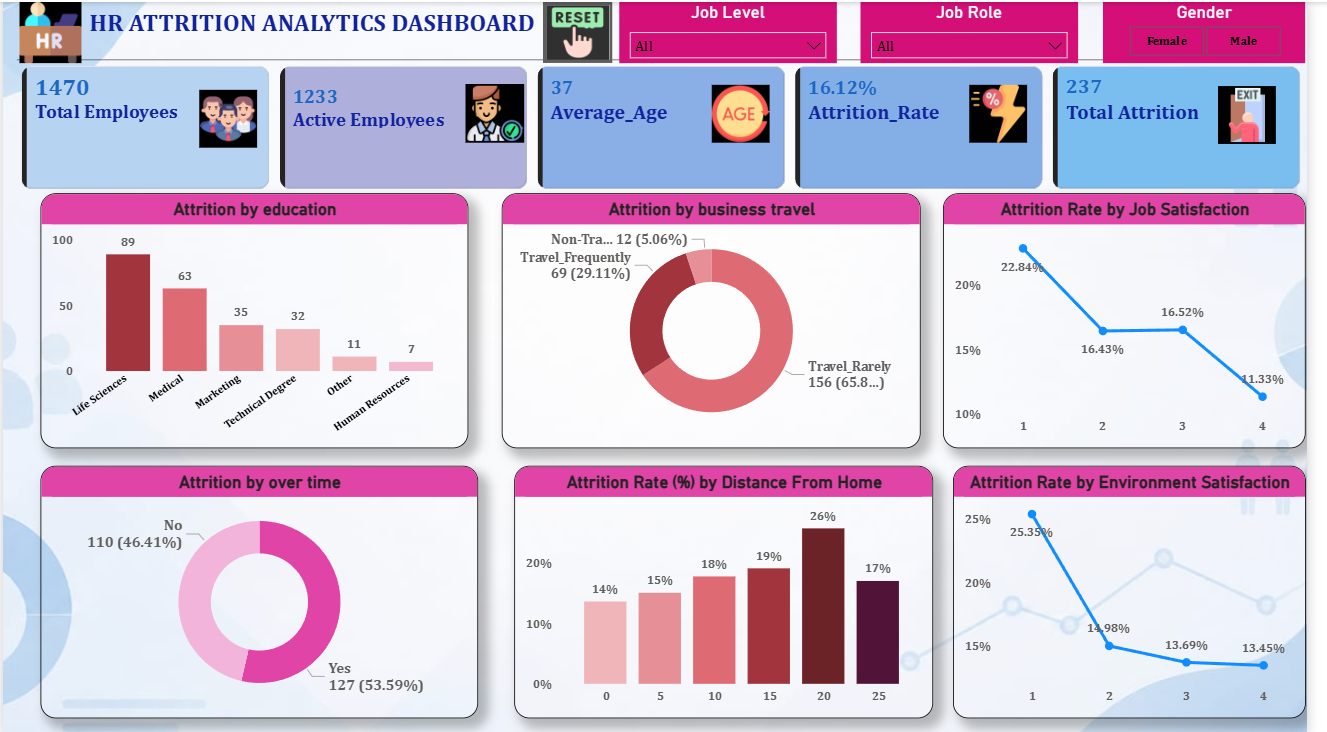

This screenshot's page, from the dashboard's own definition file:
{"tool":"powerbi","page":{"name":"Dashboard 2  ","canvas":[1280,720],"ordinal":1},"visuals":[{"type":"cardVisual","fields":{"Data":["CountNonNull(public hr_analysis.employee_number)","public hr_analysis.Attrition_no","public hr_analysis.Average_Age","public hr_analysis.Attrition_Rate","public hr_analysis.Attrition_yes"]},"box":[13.5,51.5,1265,136.2],"z":0},{"type":"textbox","box":[0,0,1278.5,73.6],"z":1000},{"type":"columnChart","title":"Attrition by education","fields":{"Y":["public hr_analysis.Attrition_yes"],"Category":["public hr_analysis.education_field"]},"box":[36.8,187.7,419.6,250.3],"z":2000},{"type":"image","box":[9.8,0,73.6,60.1],"z":3000},{"type":"donutChart","title":"Attrition by over time","fields":{"Category":["public hr_analysis.over_time"],"Y":["public hr_analysis.Attrition_Rate"]},"box":[36.8,455.2,429.5,247.9],"z":4000},{"type":"slicer","title":"Gender","fields":{"Values":["public hr_analysis.gender"]},"box":[1079.8,0,198.8,60.1],"z":5000},{"type":"slicer","title":"Job Role","fields":{"Values":["public hr_analysis.job_role"]},"box":[842.3,0,213.5,60.1],"z":6000},{"type":"donutChart","title":"Attrition by business travel","fields":{"Category":["public hr_analysis.business_travel"],"Y":["public hr_analysis.Attrition_yes"]},"box":[489.6,187.7,411,250.3],"z":7000},{"type":"slicer","title":"Job Level","fields":{"Values":["public hr_analysis.job_level"]},"box":[604.9,0,213.5,60.1],"z":8000},{"type":"image","box":[192.6,82.7,57,64.4],"z":9000},{"type":"image","box":[454,77.5,57.7,64.5],"z":10000},{"type":"image","box":[695.7,77.5,56.4,64.5],"z":11000},{"type":"image","box":[948.5,77.5,56.4,64.5],"z":12000},{"type":"image","box":[1192.6,78.6,56.4,64.5],"z":13000},{"type":"lineChart","title":" Attrition Rate  by Environment  Satisfaction","fields":{"Y":["public hr_analysis.Attrition_Rate"],"Category":["public hr_analysis.environment_satisfaction"]},"box":[932.5,455.2,346,247.9],"z":14000},{"type":"lineChart","title":" Attrition Rate  by Job Satisfaction","fields":{"Category":["public hr_analysis.job_satisfaction"],"Y":["public hr_analysis.Attrition_Rate"]},"box":[922.7,187.7,355.8,250.3],"z":15000},{"type":"actionButton","box":[530.1,0,68.2,59.8],"z":16000},{"type":"clusteredColumnChart","title":"Attrition Rate by distance from home ","fields":{"Y":["public hr_analysis.Attrition_Rate"],"Category":["public hr_analysis.distance_from_home (bins)"]},"box":[490,455,411,248],"z":17000}]}

Visuals, with their boxes in screenshot pixels (x1, y1, x2, y2), scaled from the page's 1280x720 canvas onto the 1327x732 screenshot:
cardVisual - CountNonNull(public hr_analysis.employee_number) x public hr_analysis.Attrition_no: left=14, top=52, right=1325, bottom=191
textbox: left=0, top=0, right=1325, bottom=75
"Attrition by education" columnChart: left=38, top=191, right=473, bottom=445
image: left=10, top=0, right=86, bottom=61
"Attrition by over time" donutChart: left=38, top=463, right=483, bottom=715
"Gender" slicer: left=1119, top=0, right=1326, bottom=61
"Job Role" slicer: left=873, top=0, right=1095, bottom=61
"Attrition by business travel" donutChart: left=508, top=191, right=934, bottom=445
"Job Level" slicer: left=627, top=0, right=848, bottom=61
image: left=200, top=84, right=259, bottom=150
image: left=471, top=79, right=530, bottom=144
image: left=721, top=79, right=780, bottom=144
image: left=983, top=79, right=1042, bottom=144
image: left=1236, top=80, right=1295, bottom=145
" Attrition Rate  by Environment  Satisfaction" lineChart: left=967, top=463, right=1325, bottom=715
" Attrition Rate  by Job Satisfaction" lineChart: left=957, top=191, right=1325, bottom=445
actionButton: left=550, top=0, right=620, bottom=61
"Attrition Rate by distance from home " clusteredColumnChart: left=508, top=463, right=934, bottom=715
